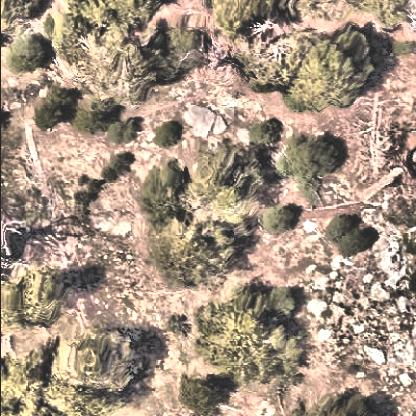tree-top: (140, 140, 286, 282), (65, 1, 199, 122), (194, 276, 312, 394), (281, 21, 377, 117), (216, 1, 306, 87), (64, 326, 147, 399), (281, 126, 345, 207), (15, 263, 77, 331), (1, 358, 67, 416), (9, 22, 61, 77), (323, 207, 374, 257), (36, 79, 80, 133), (175, 376, 226, 416), (260, 197, 298, 248), (246, 113, 286, 153), (102, 146, 140, 186), (108, 115, 146, 151), (155, 119, 187, 151)
